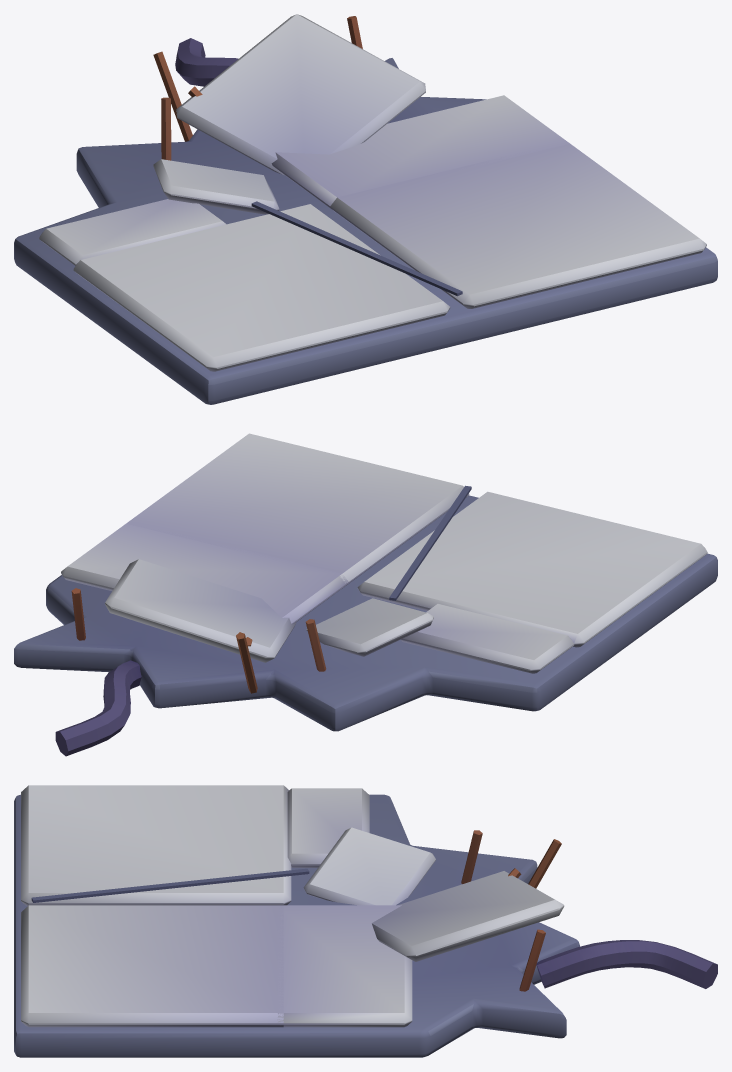
Rendered from hub_ruin_floor_broken.glb.
The picture shows the model from 3 angles, top to bottom: view 1: azimuth 30°, elevation 25°; view 2: azimuth 150°, elevation 25°; view 3: azimuth 270°, elevation 25°; orthographic projection. The views are drawn at different scales.
Visible parts, largest first — view 1: hub_ruin_floor_broken; view 2: hub_ruin_floor_broken; view 3: hub_ruin_floor_broken.
Boxes of the visible parts, x1,y1,x2,y2 form: hub_ruin_floor_broken: (14, 14, 717, 404); hub_ruin_floor_broken: (14, 433, 717, 756); hub_ruin_floor_broken: (14, 785, 717, 1057).
Size of the model in its own units: 4 by 0.771 by 4.95.
